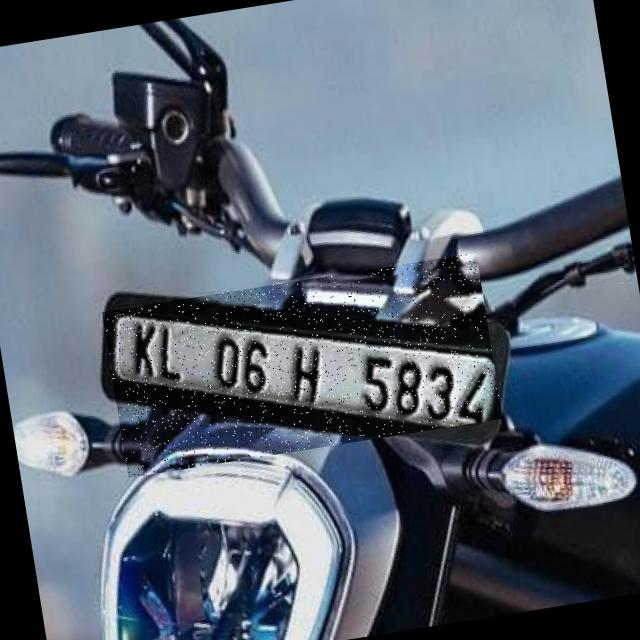Plate: (103, 254, 504, 479)
